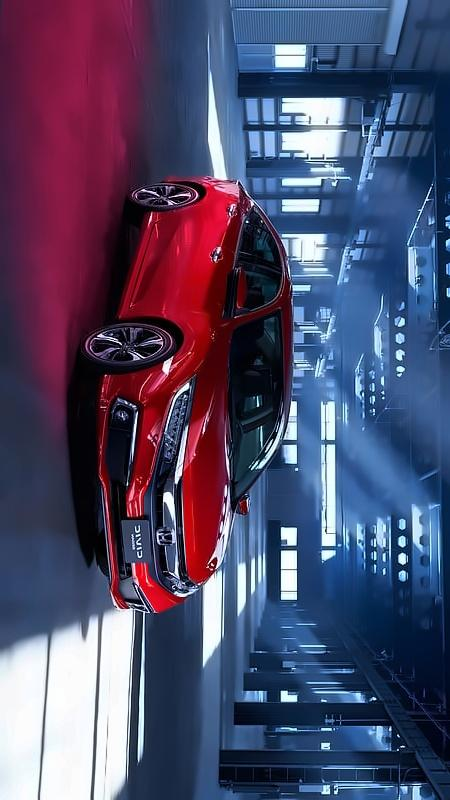Car hood: (179, 334, 236, 591)
Driver-s door - -F-R-: (127, 244, 286, 313)
Fender - -F-R-: (119, 311, 241, 385)
Fender - -R-R-: (148, 181, 236, 218)
Front bumper: (94, 365, 179, 618)
Headlight - -L-: (156, 567, 205, 602)
Headlight - -R-: (155, 368, 199, 480)
Passenger-s door - -R-R-: (143, 198, 281, 243)
Rear bumper: (160, 169, 206, 186)
Side bumper - -R-: (115, 204, 156, 322)
Side mirror - -L-: (228, 488, 256, 523)
Side mirror - -R-: (223, 261, 249, 323)
